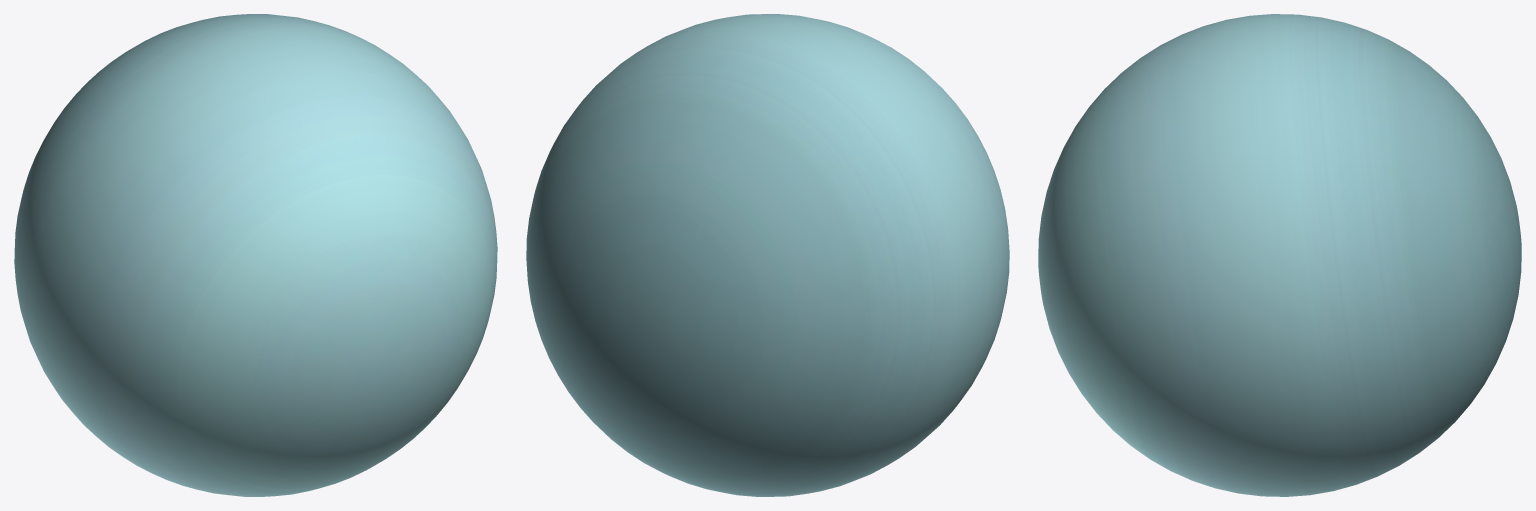
File: Uranus.glb
3 renders of one model, left to right at view 1: azimuth 30°, elevation 25°; view 2: azimuth 150°, elevation 25°; view 3: azimuth 270°, elevation 25°, orthographic.
Visible parts, largest first — view 1: Uranus; view 2: Uranus; view 3: Uranus.
Part boxes in pixels (x1,y1,x2,y2): Uranus: (14,14,497,496); Uranus: (526,14,1009,496); Uranus: (1038,14,1521,496).
Bounding box in the file's own units: 3.2 × 3.2 × 3.2.
Materials: 1 (1 with a texture image).
